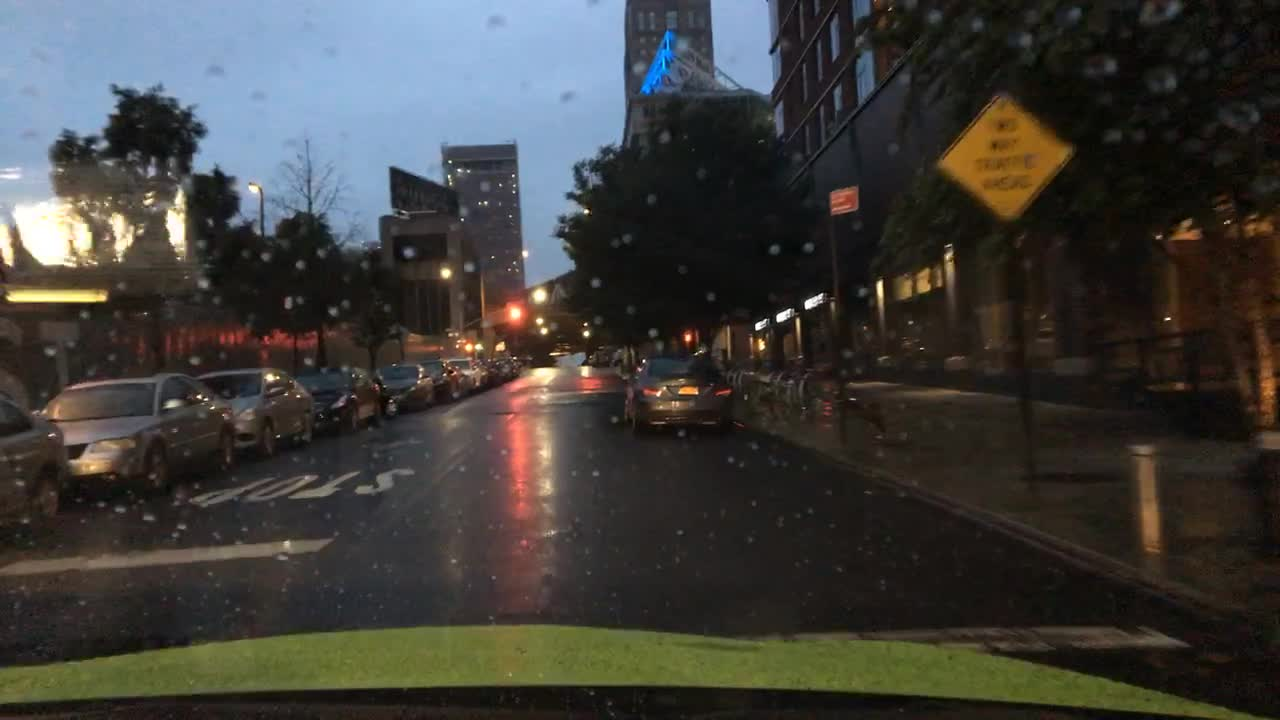bike: (774, 362, 843, 418), (796, 361, 858, 416), (760, 361, 812, 414), (747, 358, 800, 403), (726, 353, 767, 394)
car: (35, 371, 236, 497), (190, 366, 317, 461), (0, 386, 71, 530), (623, 352, 737, 439), (295, 365, 383, 435), (372, 360, 436, 420), (418, 359, 466, 403), (444, 356, 486, 395), (585, 342, 616, 368), (485, 356, 513, 382), (607, 345, 635, 370), (474, 359, 493, 391), (614, 357, 638, 382), (498, 355, 521, 378), (527, 348, 556, 366), (553, 339, 574, 355), (511, 354, 526, 369)
traffic sign: (932, 89, 1074, 226), (829, 183, 861, 218)
